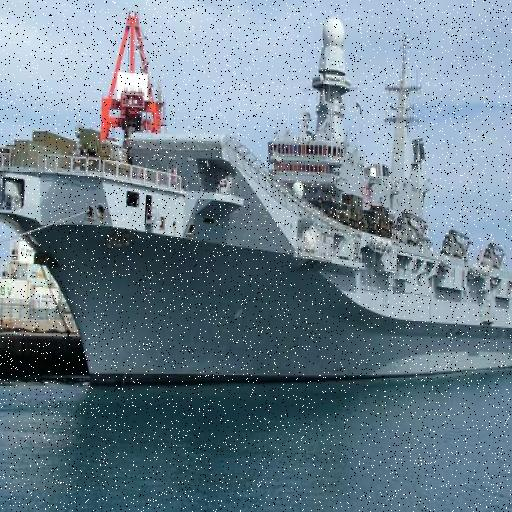Portanaves: (1, 11, 512, 393)
